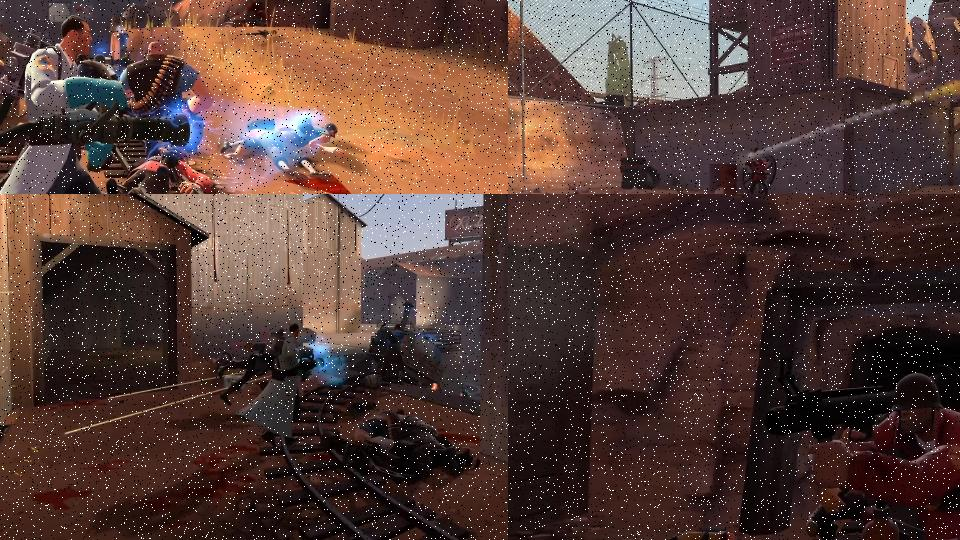Enemy: (759, 357, 960, 540), (0, 13, 190, 194), (234, 322, 325, 447), (119, 42, 214, 154), (352, 409, 483, 484), (221, 118, 334, 186), (102, 141, 213, 194), (275, 117, 346, 167), (379, 324, 410, 386), (744, 148, 770, 194)
